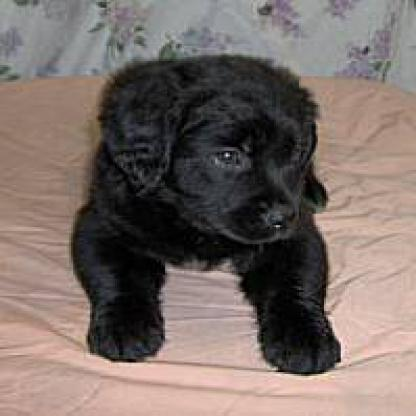dog: (86, 61, 351, 357)
